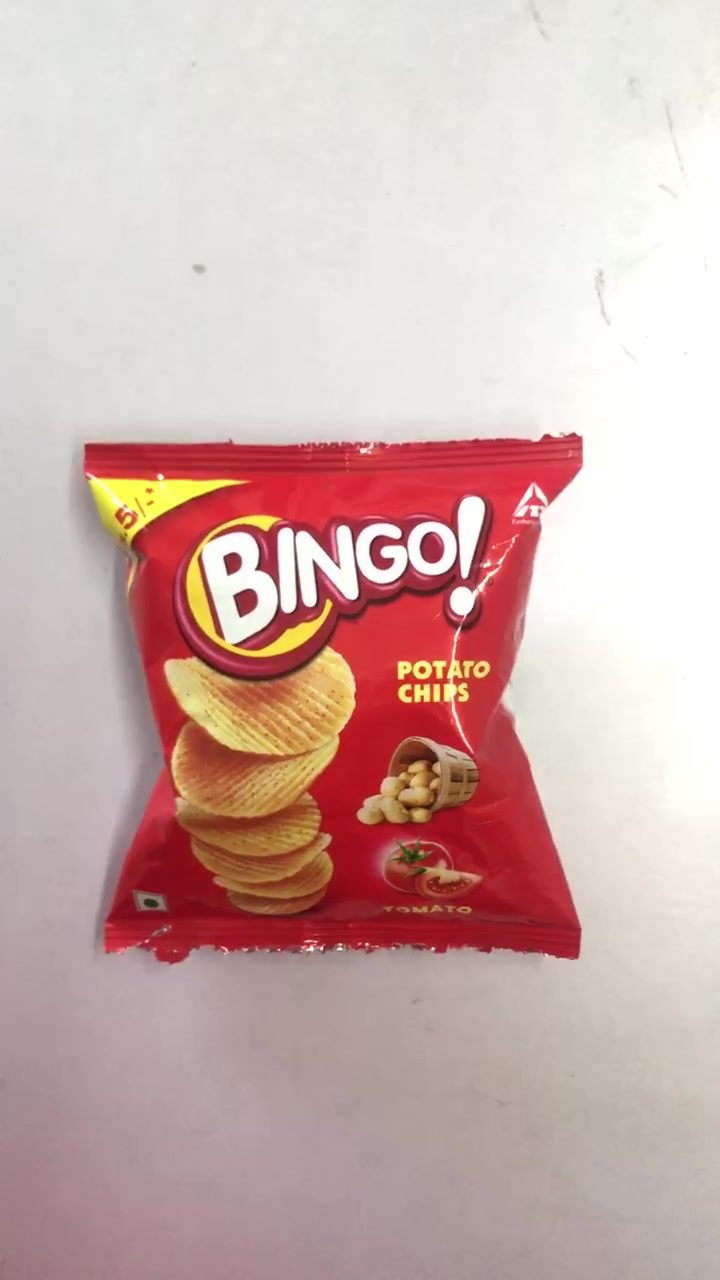Bingo: (85, 442, 583, 949)
